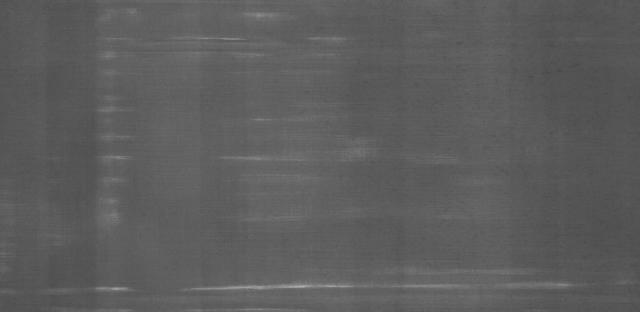waist_folding: (180, 14, 377, 238), (75, 12, 138, 302), (180, 269, 582, 301)
